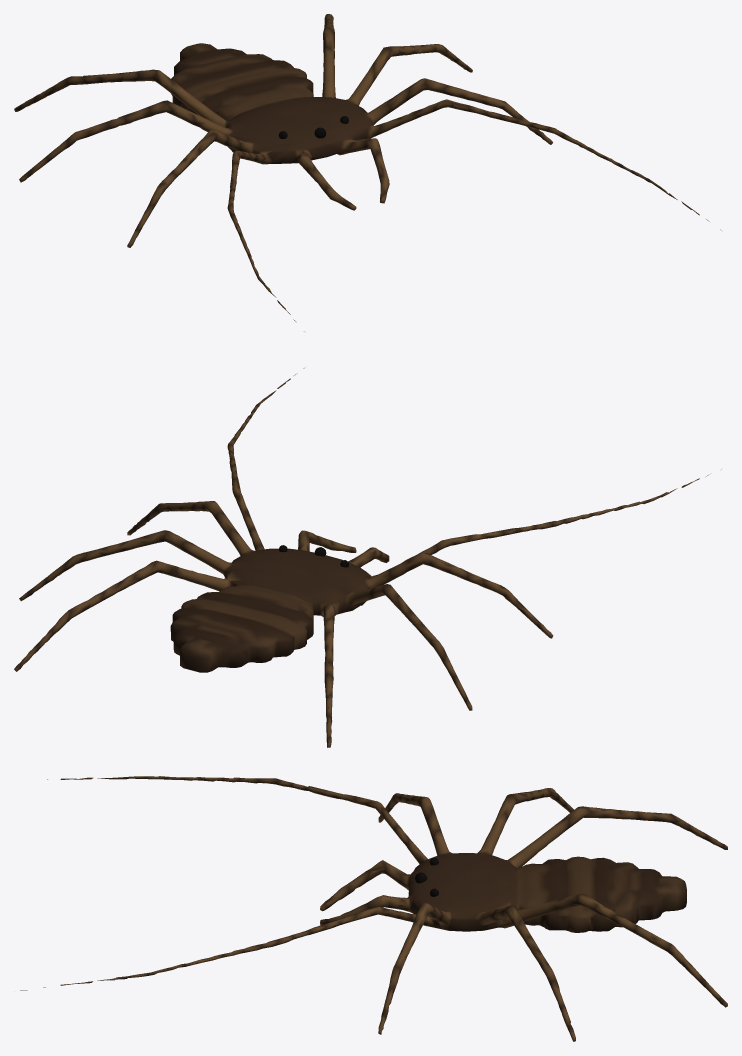
File: Weygoldtina.fbx
3 views of the same model, one above another, from view 1: azimuth 30°, elevation 25°; view 2: azimuth 150°, elevation 25°; view 3: azimuth 270°, elevation 25° (orthographic). The views are drawn at different scales.
Visible parts, largest first — view 1: Weygoldtina; view 2: Weygoldtina; view 3: Weygoldtina.
Part boxes in pixels (left/top/right/bottom): Weygoldtina: left=14, top=14, right=721, bottom=331; Weygoldtina: left=14, top=368, right=721, bottom=747; Weygoldtina: left=20, top=776, right=727, bottom=1041.
Size of the model in its own units: 1.04 by 0.1655 by 1.37.
